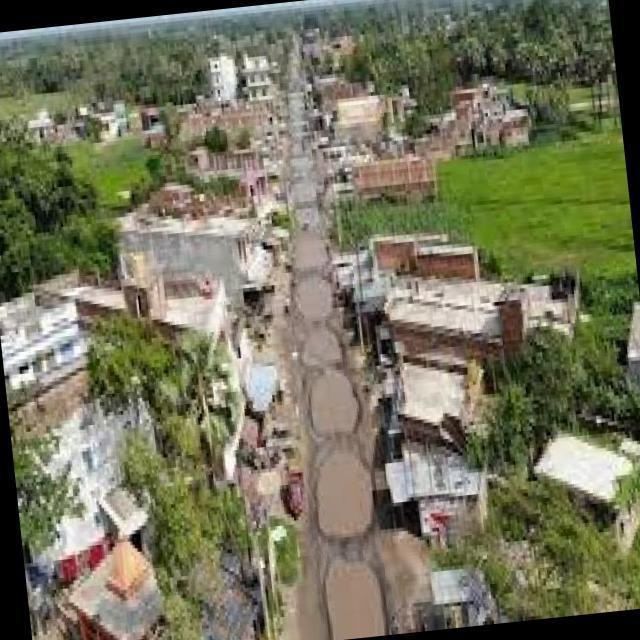pothole: (325, 561, 385, 639), (319, 452, 371, 537), (311, 371, 358, 434), (290, 109, 315, 188), (302, 328, 342, 367), (298, 276, 332, 321), (294, 231, 328, 272), (291, 181, 316, 204), (297, 208, 319, 231)
